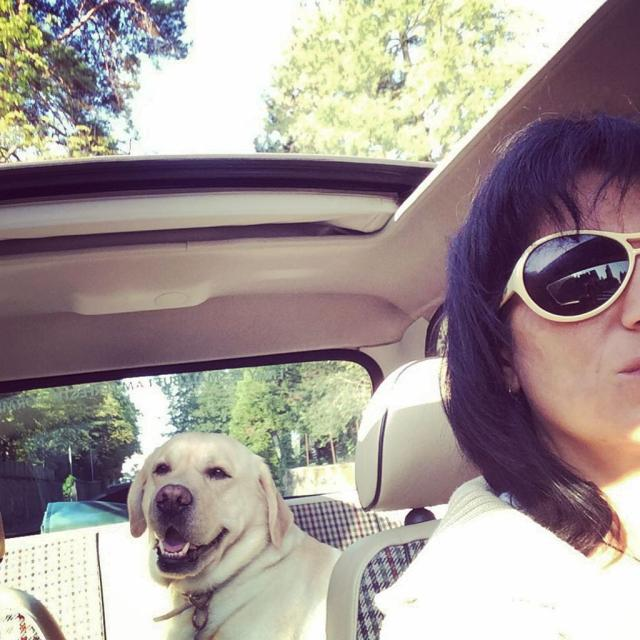Dog: (126, 431, 347, 639)
